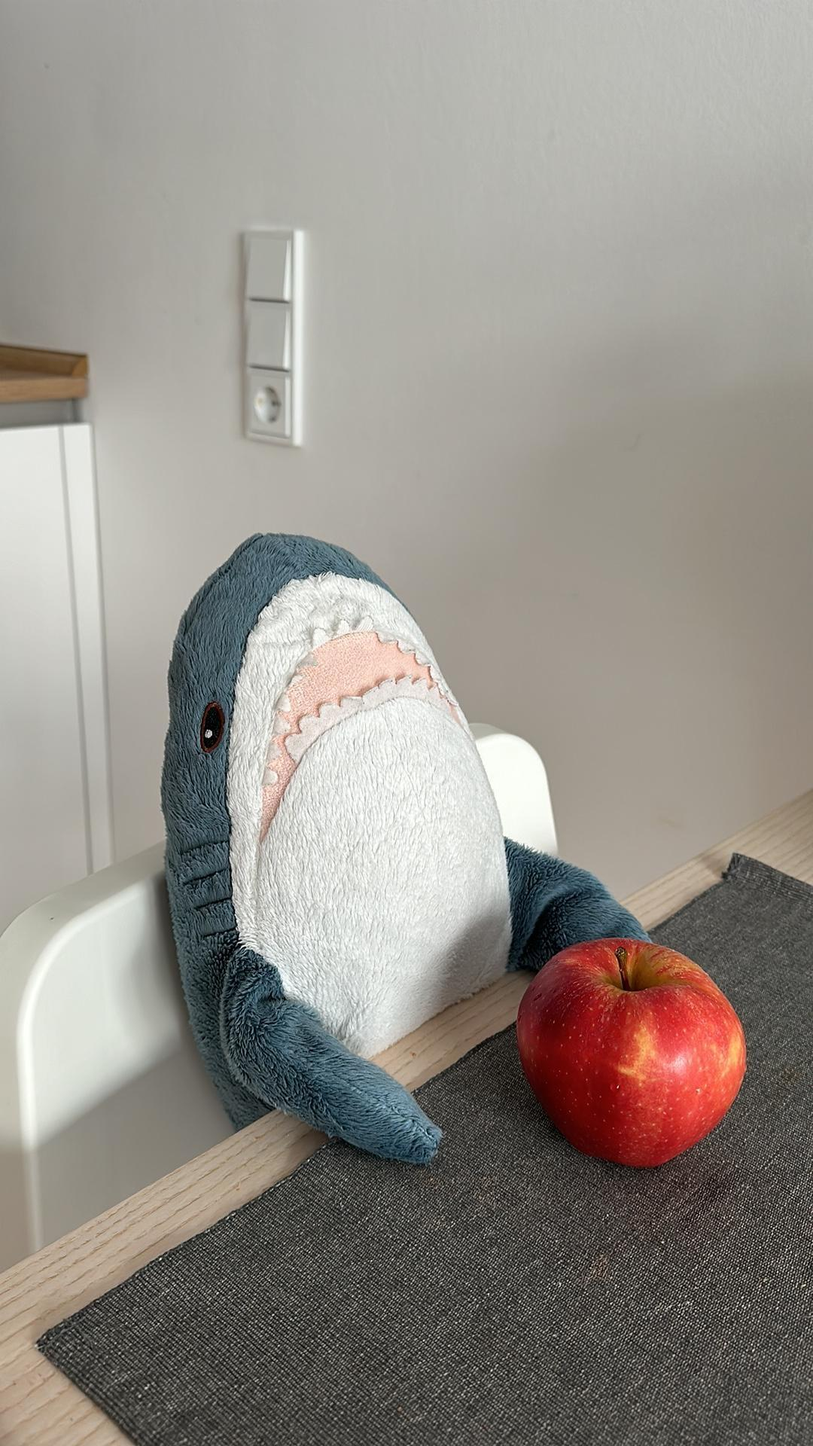apple: (507, 919, 750, 1167)
